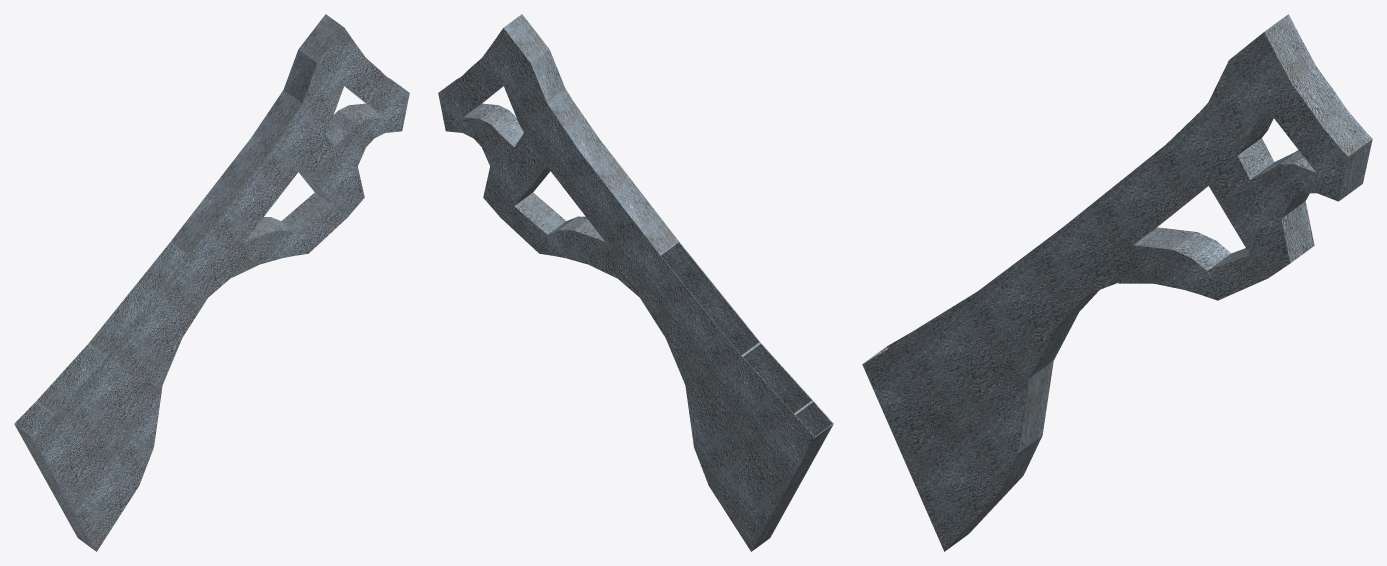
The model's file is neclever.dae.
3 views of the same model, side by side, from view 1: azimuth 30°, elevation 25°; view 2: azimuth 150°, elevation 25°; view 3: azimuth 330°, elevation 25° (orthographic). The views are drawn at different scales.
Visible parts, largest first — view 1: Cube; view 2: Cube; view 3: Cube.
Part boxes in pixels (box(x1,y1,x2,y2)): Cube: box(14, 14, 409, 551); Cube: box(438, 14, 833, 551); Cube: box(862, 14, 1372, 551).
Size of the model in its own units: 0.7314 by 0.0655 by 0.8601.
1 material, 1 textured.
